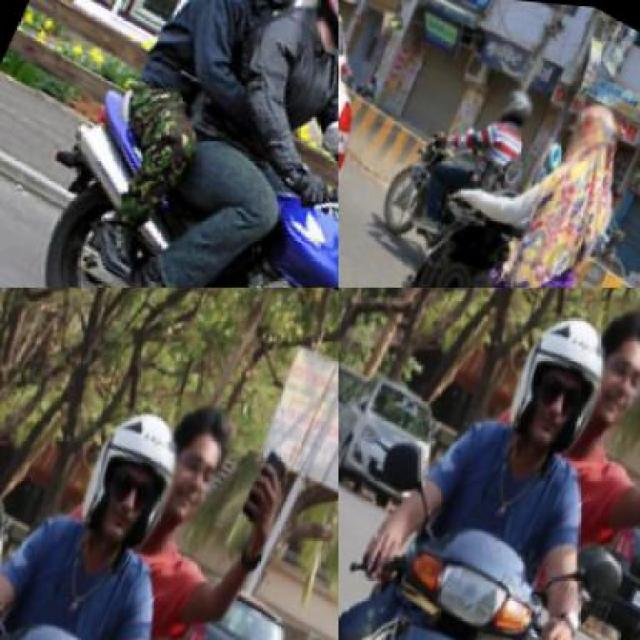With Helmet: (477, 288, 632, 482), (50, 380, 204, 575), (283, 0, 337, 77), (484, 72, 542, 137)
Without Helmet: (127, 377, 248, 532), (554, 287, 638, 438), (556, 85, 630, 167)
